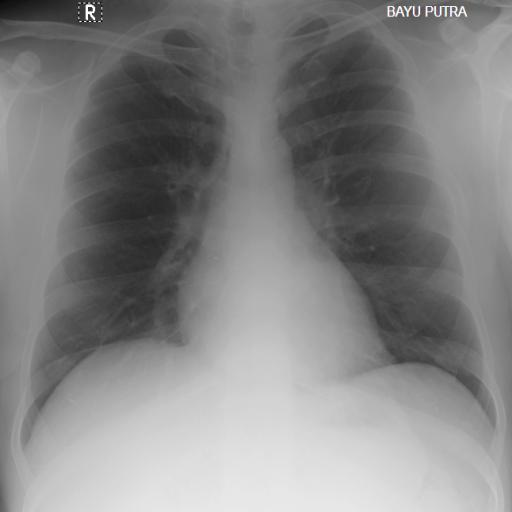normal: (12, 6, 506, 444)
